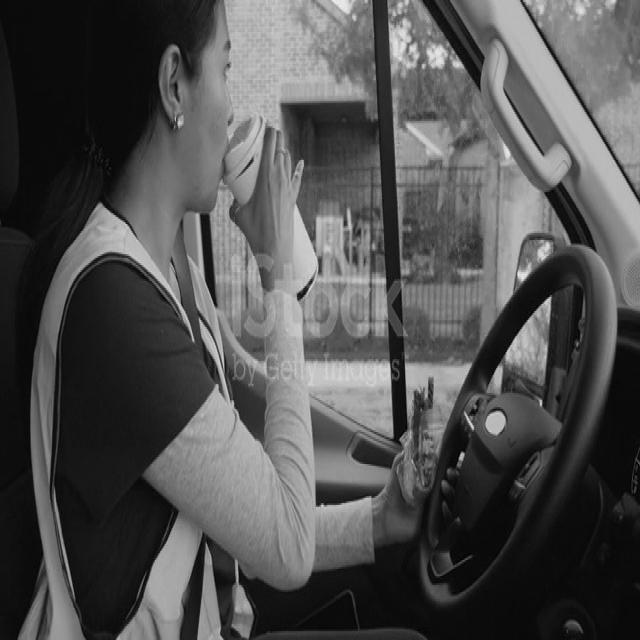Drinking: (90, 0, 328, 357)
